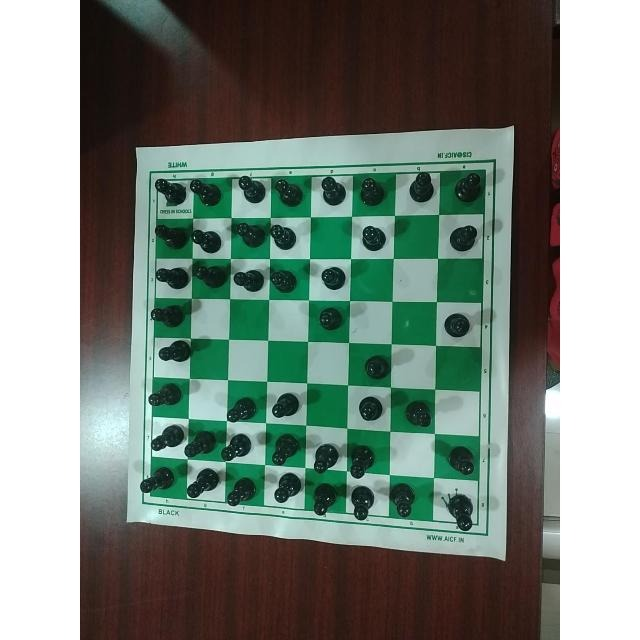black-pawn: (441, 489, 477, 537), (347, 438, 379, 480), (446, 219, 481, 255), (140, 465, 180, 495), (273, 174, 306, 210), (404, 169, 437, 205), (147, 302, 185, 333), (311, 478, 339, 520), (152, 339, 191, 369), (193, 261, 227, 295), (270, 432, 302, 468), (388, 479, 418, 517), (189, 175, 221, 210), (452, 168, 484, 203), (152, 176, 188, 207), (153, 220, 189, 251), (185, 465, 221, 496), (446, 443, 478, 477), (357, 174, 387, 210), (152, 262, 189, 291), (226, 392, 258, 425), (226, 472, 258, 505), (236, 173, 267, 207), (149, 421, 185, 450), (360, 352, 392, 384), (221, 431, 255, 461), (149, 380, 185, 408), (311, 437, 339, 473), (232, 263, 264, 294), (271, 470, 302, 502), (350, 481, 374, 522), (355, 393, 386, 424), (190, 224, 222, 254), (185, 427, 217, 457), (403, 398, 434, 428), (231, 221, 264, 249), (358, 223, 387, 254), (442, 309, 471, 339), (268, 222, 297, 251), (318, 177, 348, 205), (271, 392, 301, 420), (313, 306, 342, 334), (319, 266, 347, 294), (269, 267, 298, 293)
